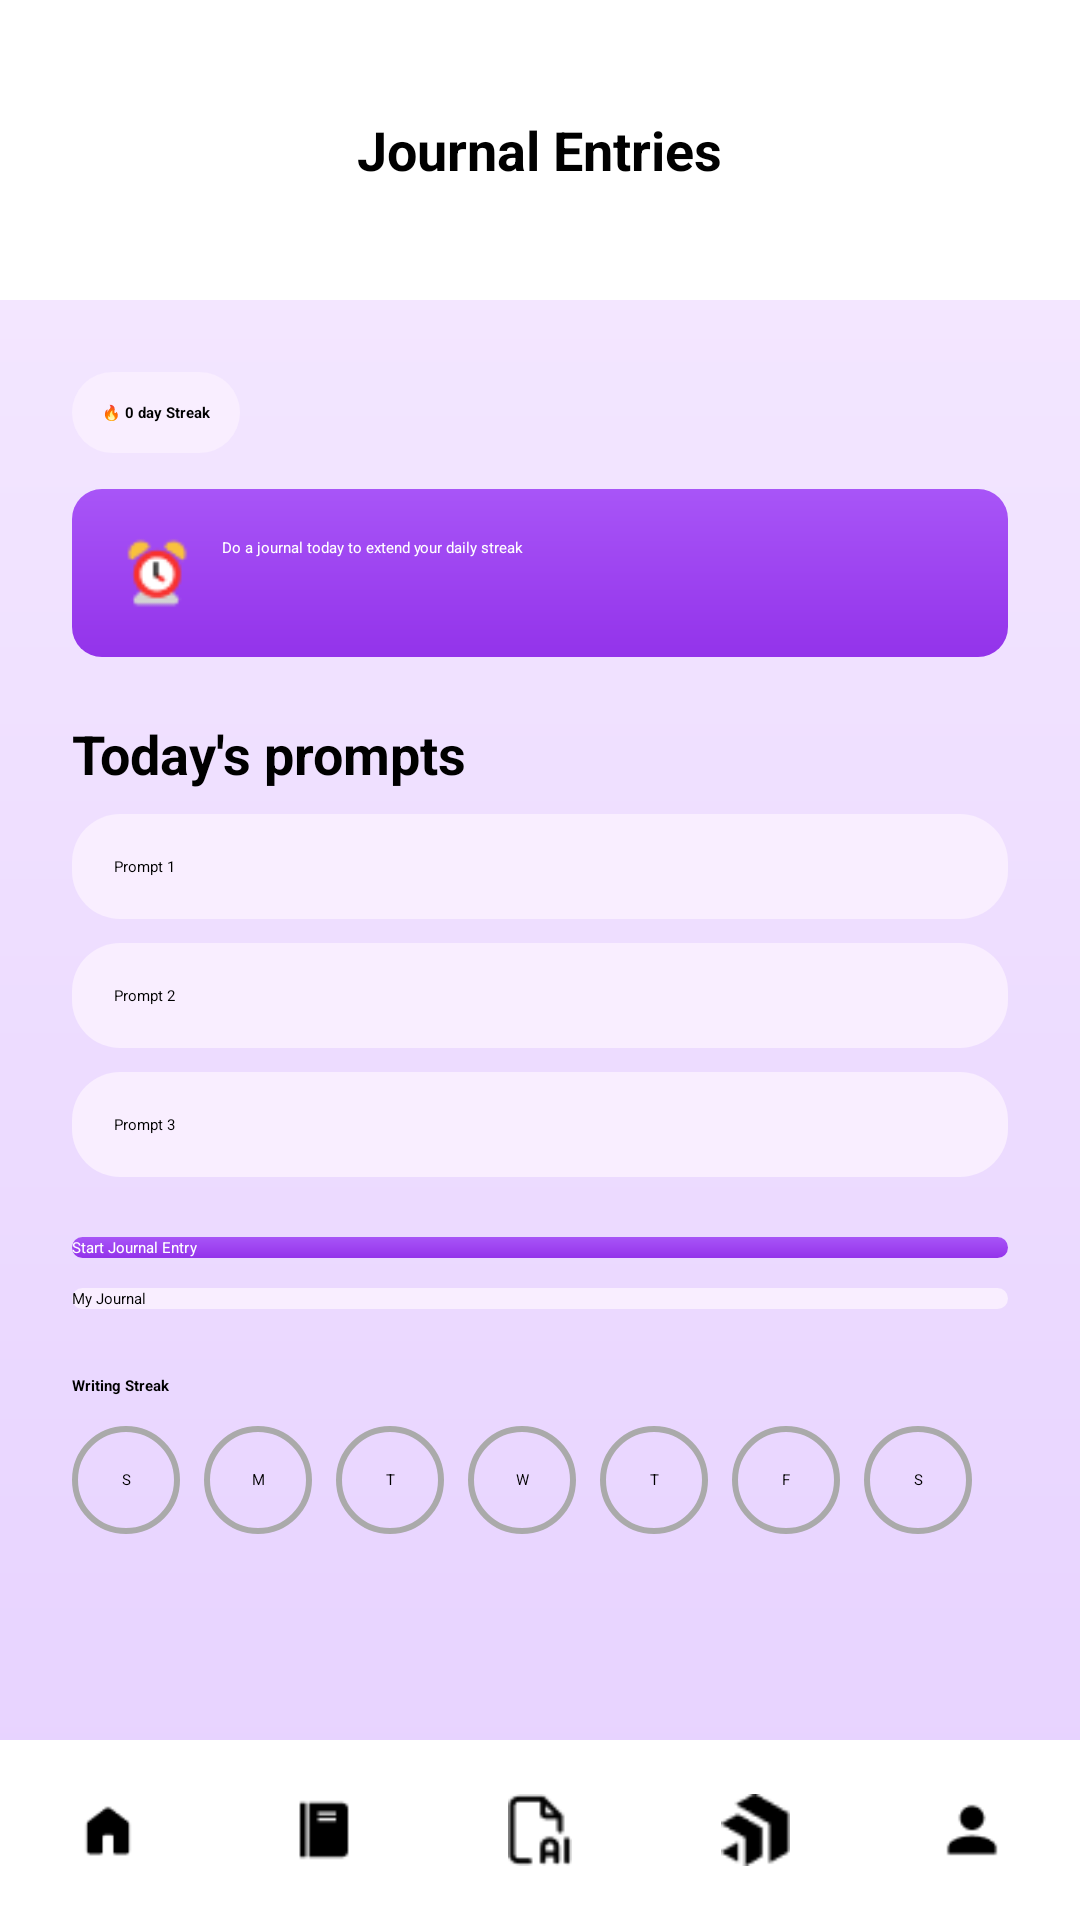

Icon click points for this 1080px×1920px phone screenshot, format (x=x, y=y):
clock: (x=157, y=572)
Home: (x=108, y=1831)
Journal: (x=324, y=1830)
Profile: (x=972, y=1830)
